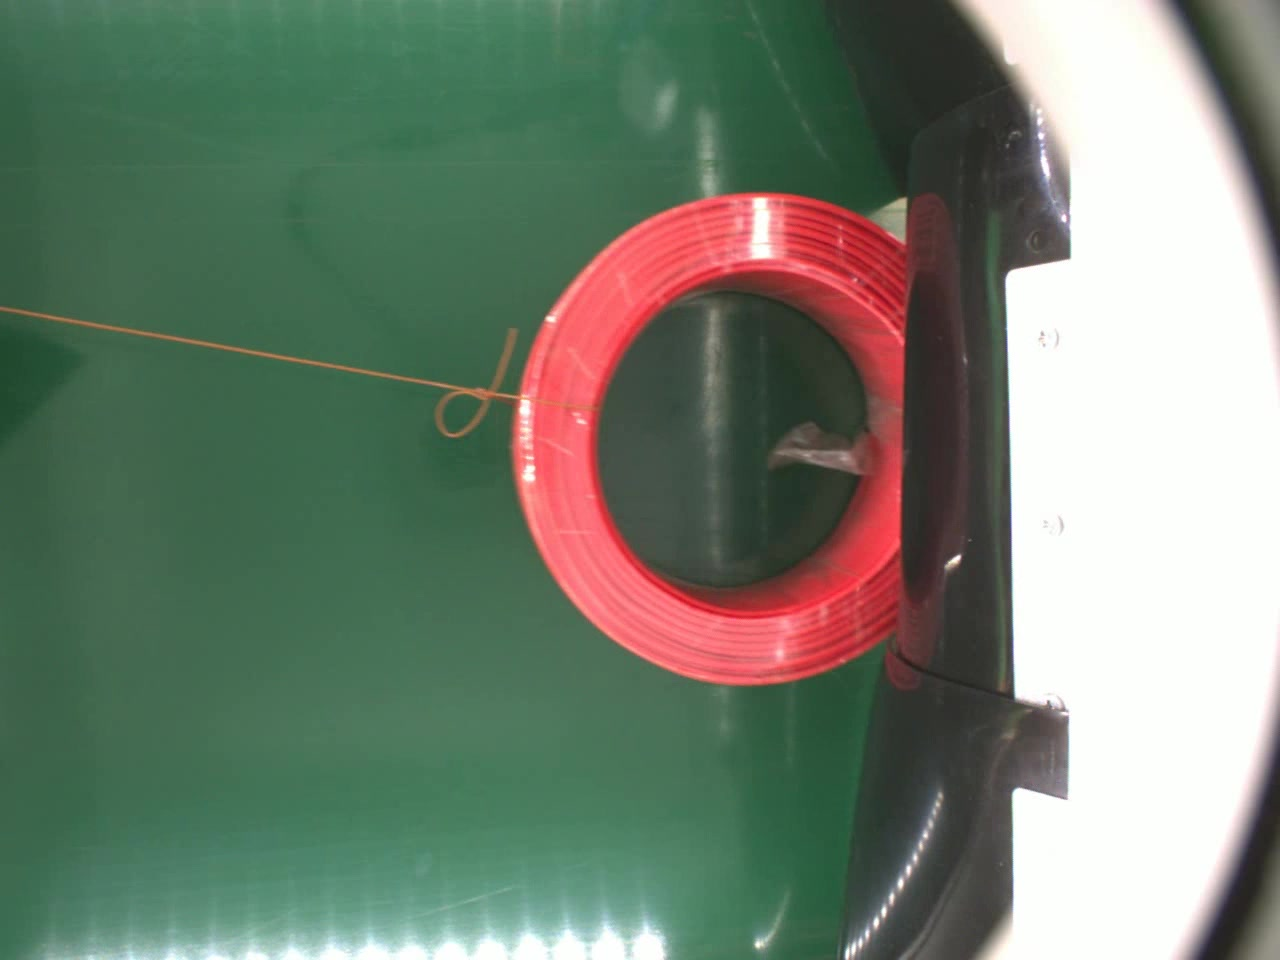red: (506, 188, 905, 687)
